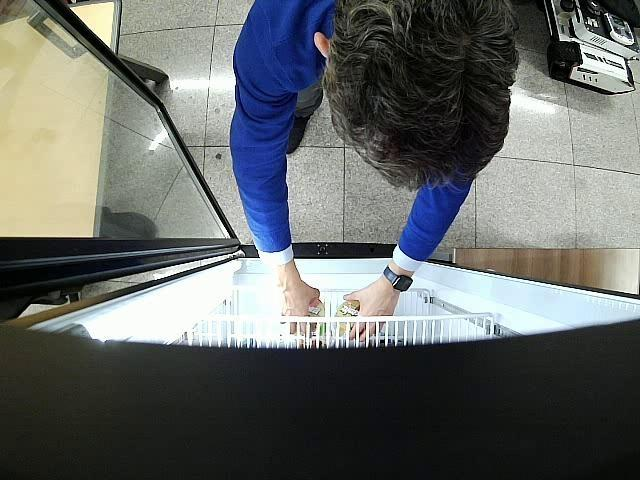04_chapagetti_S: (292, 298, 324, 333), (334, 300, 359, 338)
